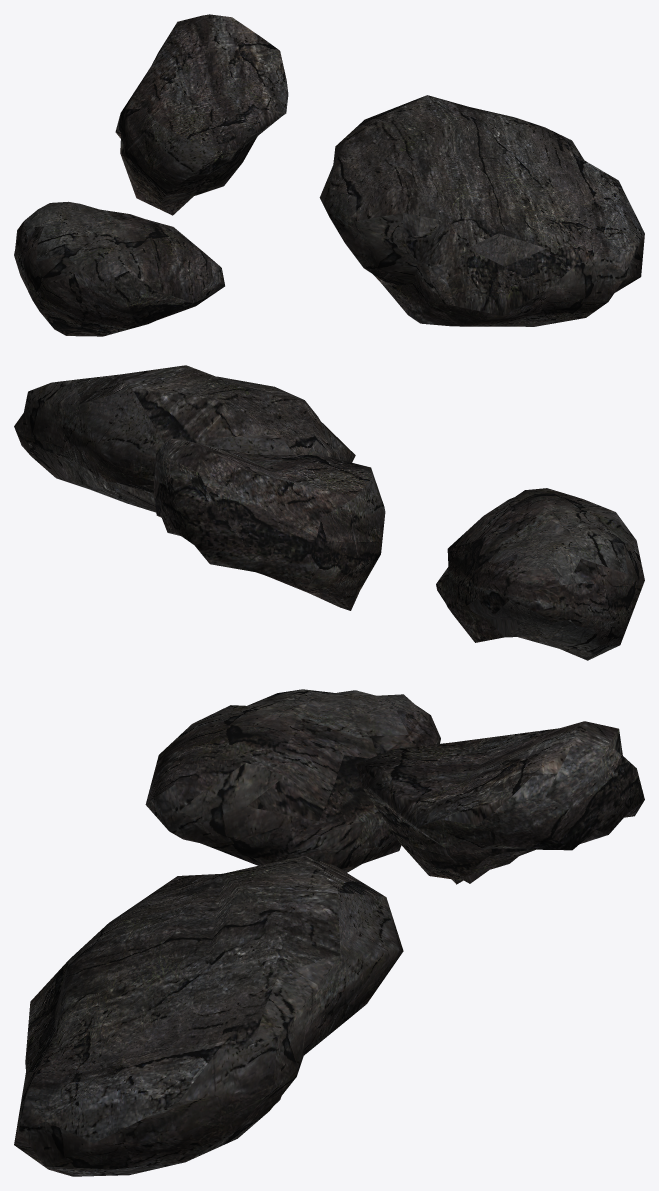
Rendered from Rocks.obj.
The picture shows the model from 3 angles, top to bottom: view 1: azimuth 30°, elevation 25°; view 2: azimuth 150°, elevation 25°; view 3: azimuth 270°, elevation 25°; orthographic projection. The views are drawn at different scales.
Parts seen in each view (by area): view 1: rocks_3_mid.002_Cube.000; view 2: rocks_3_mid.002_Cube.000; view 3: rocks_3_mid.002_Cube.000.
Part boxes in pixels (x1,y1,x2,y2): rocks_3_mid.002_Cube.000: (14,14,644,336); rocks_3_mid.002_Cube.000: (14,365,644,660); rocks_3_mid.002_Cube.000: (14,689,644,1176).
Bounding box in the file's own units: 1.51 × 0.5948 × 1.07.
